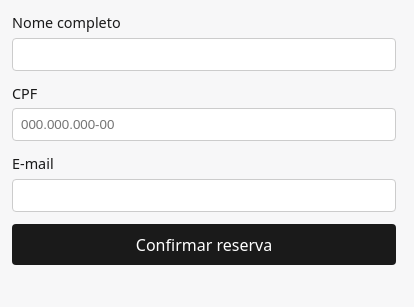
it: PassengerForm › mostra erro quando o CPF é inválido
The image size is (414, 307).
In the field labelled "Nome completo": point(204, 54) [12, 38, 396, 71], type "Maria Souza"
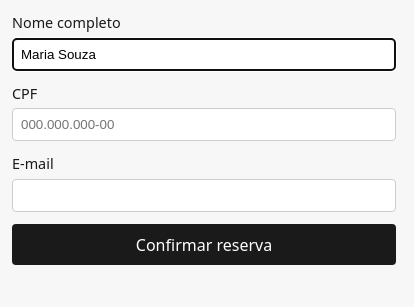
In the field labelled "CPF": point(204, 125) [12, 108, 396, 141], type "111.111.111-11"
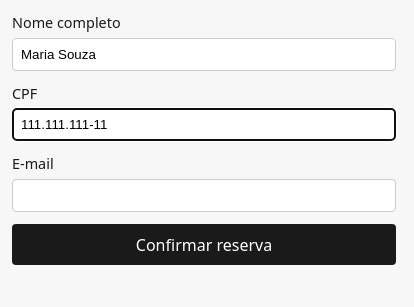
In the field labelled "E-mail": point(204, 195) [12, 179, 396, 212], type "maria@example.com"
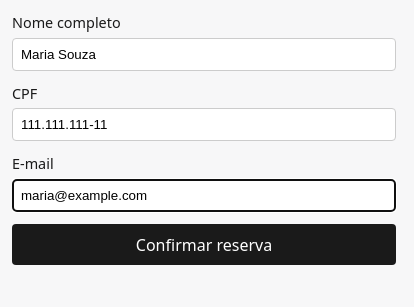
Click the button "Confirmar reserva": point(204, 245) [12, 224, 396, 265]
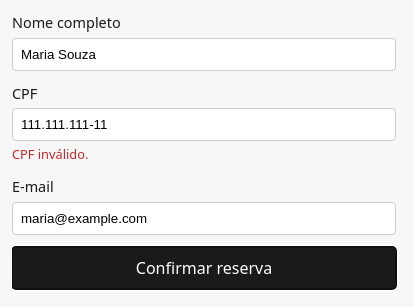
Expected: the text "CPF inválido." is shown, [12, 145, 88, 163]
